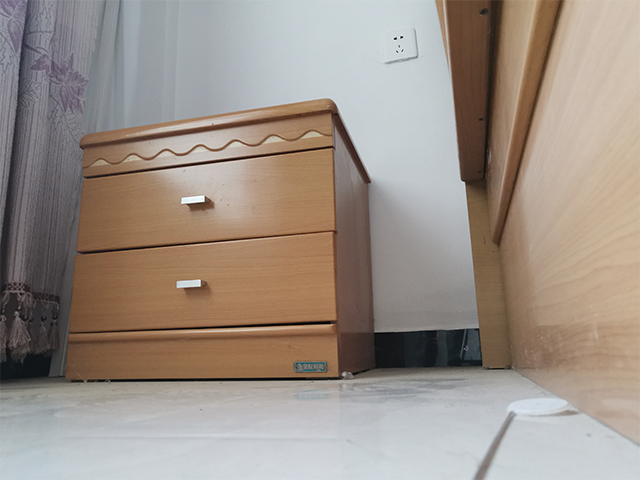bed: (433, 1, 640, 445)
cabinet: (62, 97, 379, 384)
curtain: (1, 1, 122, 365)
